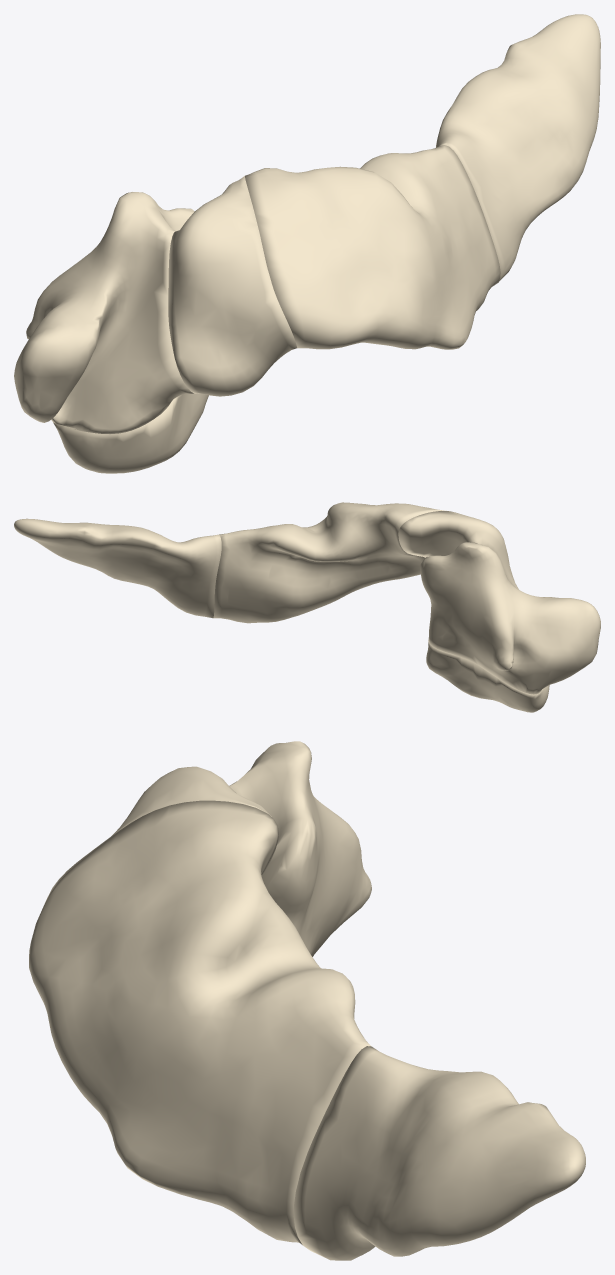
The model's file is vh_f_pancreas-80.glb.
3 views of the same model, one above another, from view 1: azimuth 30°, elevation 25°; view 2: azimuth 150°, elevation 25°; view 3: azimuth 270°, elevation 25° (orthographic). The views are drawn at different scales.
Parts seen in each view (by area): view 1: VH_F_body_of_pancreas, VH_F_head_of_pancreas, VH_F_tail_of_pancreas, VH_F_neck_of_pancreas, VH_F_uncinate_process; view 2: VH_F_body_of_pancreas, VH_F_head_of_pancreas, VH_F_tail_of_pancreas, VH_F_neck_of_pancreas, VH_F_uncinate_process; view 3: VH_F_body_of_pancreas, VH_F_tail_of_pancreas, VH_F_head_of_pancreas, VH_F_neck_of_pancreas.
Boxes of the visible parts, bbox=[...] form: VH_F_body_of_pancreas: bbox=[245, 145, 500, 349]; VH_F_head_of_pancreas: bbox=[14, 192, 194, 433]; VH_F_tail_of_pancreas: bbox=[436, 14, 600, 282]; VH_F_neck_of_pancreas: bbox=[168, 176, 296, 396]; VH_F_uncinate_process: bbox=[53, 393, 208, 473]; VH_F_body_of_pancreas: bbox=[213, 502, 449, 623]; VH_F_head_of_pancreas: bbox=[420, 542, 600, 694]; VH_F_tail_of_pancreas: bbox=[14, 518, 221, 618]; VH_F_neck_of_pancreas: bbox=[398, 511, 518, 589]; VH_F_uncinate_process: bbox=[426, 642, 549, 712]; VH_F_body_of_pancreas: bbox=[29, 800, 371, 1244]; VH_F_tail_of_pancreas: bbox=[293, 1046, 585, 1260]; VH_F_head_of_pancreas: bbox=[229, 741, 371, 956]; VH_F_neck_of_pancreas: bbox=[84, 766, 276, 856].
Bounding box in the file's own units: 0.1721 × 0.0579 × 0.0844.
